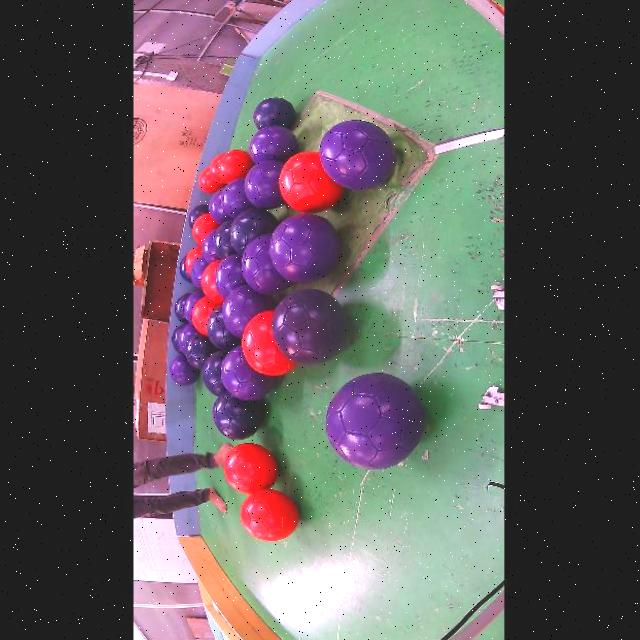B: (211, 391, 263, 440), (229, 208, 278, 256), (206, 305, 241, 350), (253, 97, 295, 129), (184, 332, 218, 369), (201, 350, 227, 396), (213, 218, 235, 260), (187, 204, 209, 228), (174, 293, 189, 324), (170, 324, 184, 354), (178, 257, 191, 283)
P: (325, 373, 424, 470), (271, 289, 347, 364), (318, 120, 396, 190), (269, 213, 340, 283), (241, 234, 293, 294), (220, 346, 276, 400), (222, 285, 276, 338), (244, 160, 285, 209), (249, 125, 296, 163), (214, 254, 246, 298), (220, 177, 254, 218), (169, 355, 198, 386), (209, 189, 231, 225), (183, 291, 204, 323), (176, 323, 197, 354), (201, 230, 219, 263), (189, 256, 207, 289)
R: (278, 151, 343, 213), (241, 310, 295, 376), (240, 489, 298, 541), (223, 443, 277, 494), (216, 150, 253, 182), (191, 297, 218, 336), (201, 260, 223, 303), (192, 213, 219, 244), (198, 168, 224, 194), (209, 154, 227, 185), (184, 247, 200, 274)
